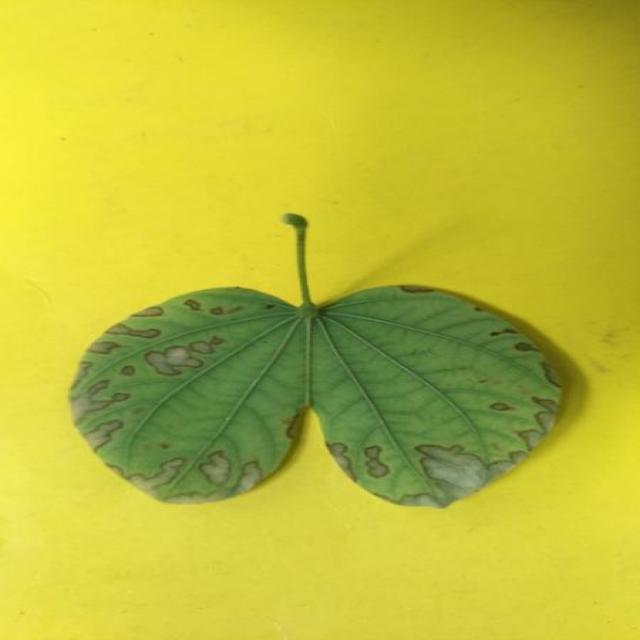Kambajala: (70, 215, 560, 507)
